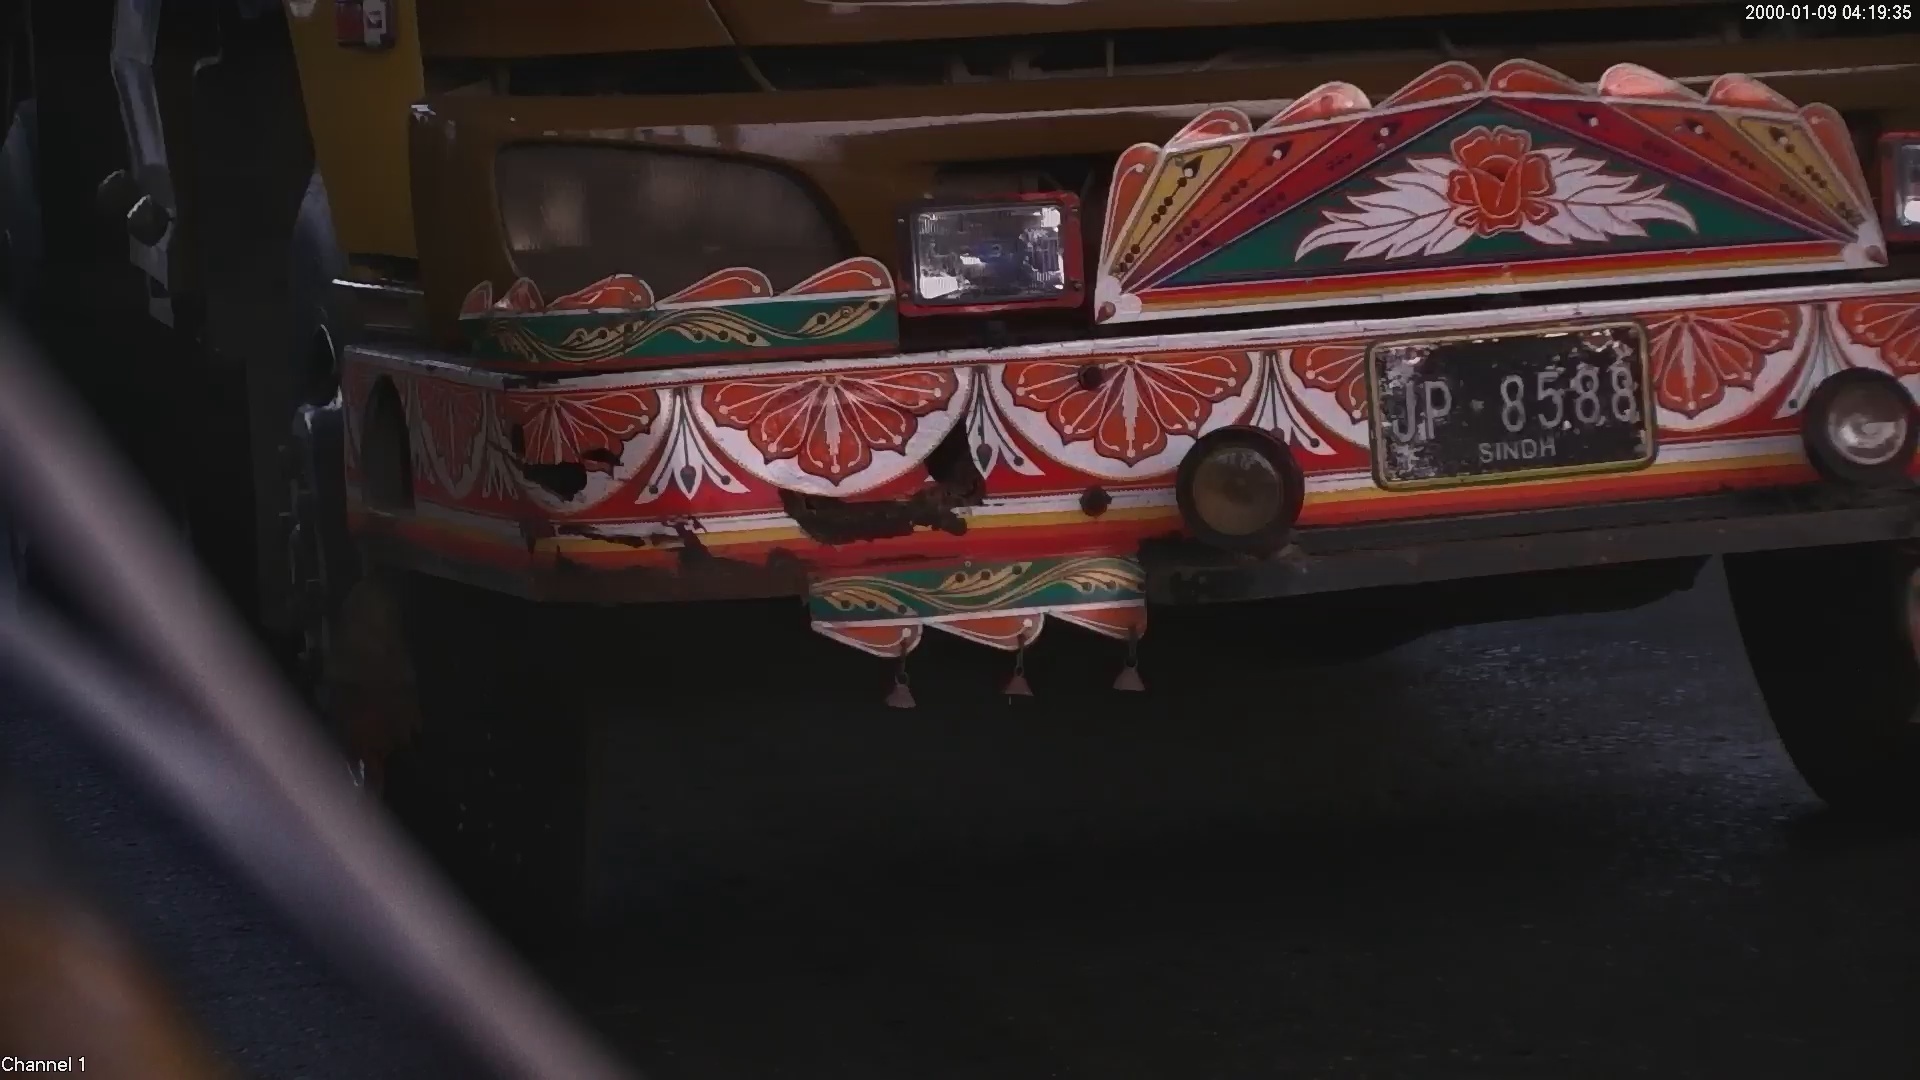Number_Plate: (1369, 318, 1678, 501)
Undefined: (506, 140, 1100, 336)
